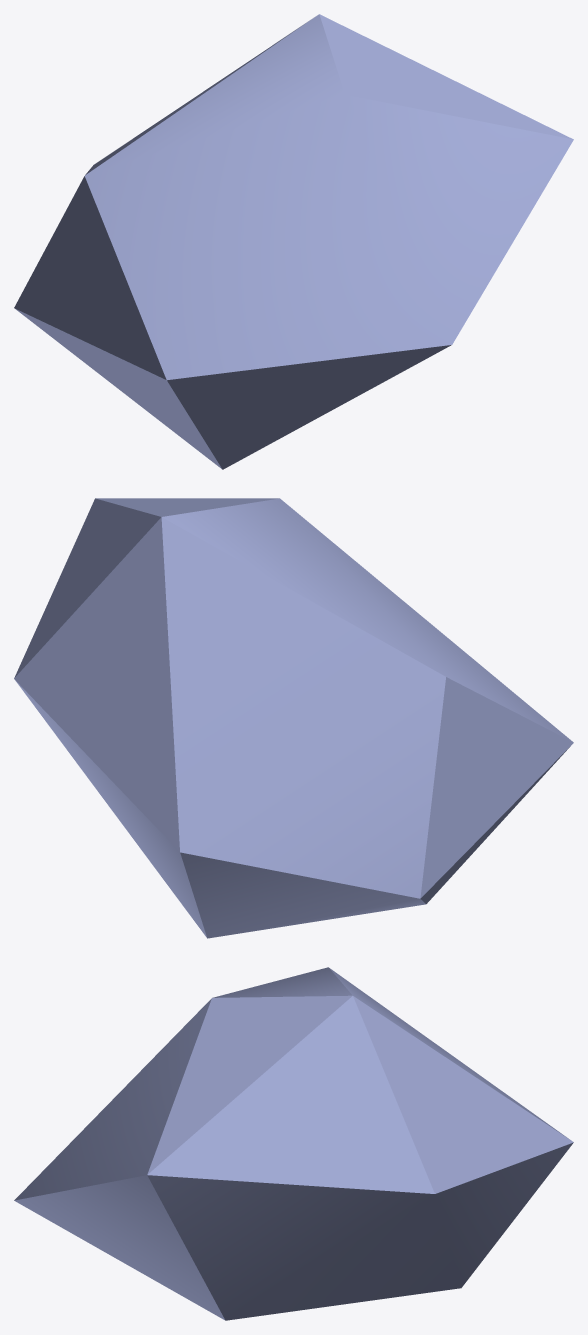
The model's file is SnowPileDark.fbx.
The picture shows the model from 3 angles, top to bottom: view 1: azimuth 30°, elevation 25°; view 2: azimuth 150°, elevation 25°; view 3: azimuth 270°, elevation 25°; orthographic projection. The views are drawn at different scales.
Parts seen in each view (by area): view 1: SnowPileDark; view 2: SnowPileDark; view 3: SnowPileDark.
Part boxes in pixels (x1,y1,x2,y2): SnowPileDark: (14, 14, 573, 469); SnowPileDark: (14, 498, 573, 938); SnowPileDark: (14, 967, 573, 1320).
Bounding box in the file's own units: 432 × 350 × 464.
